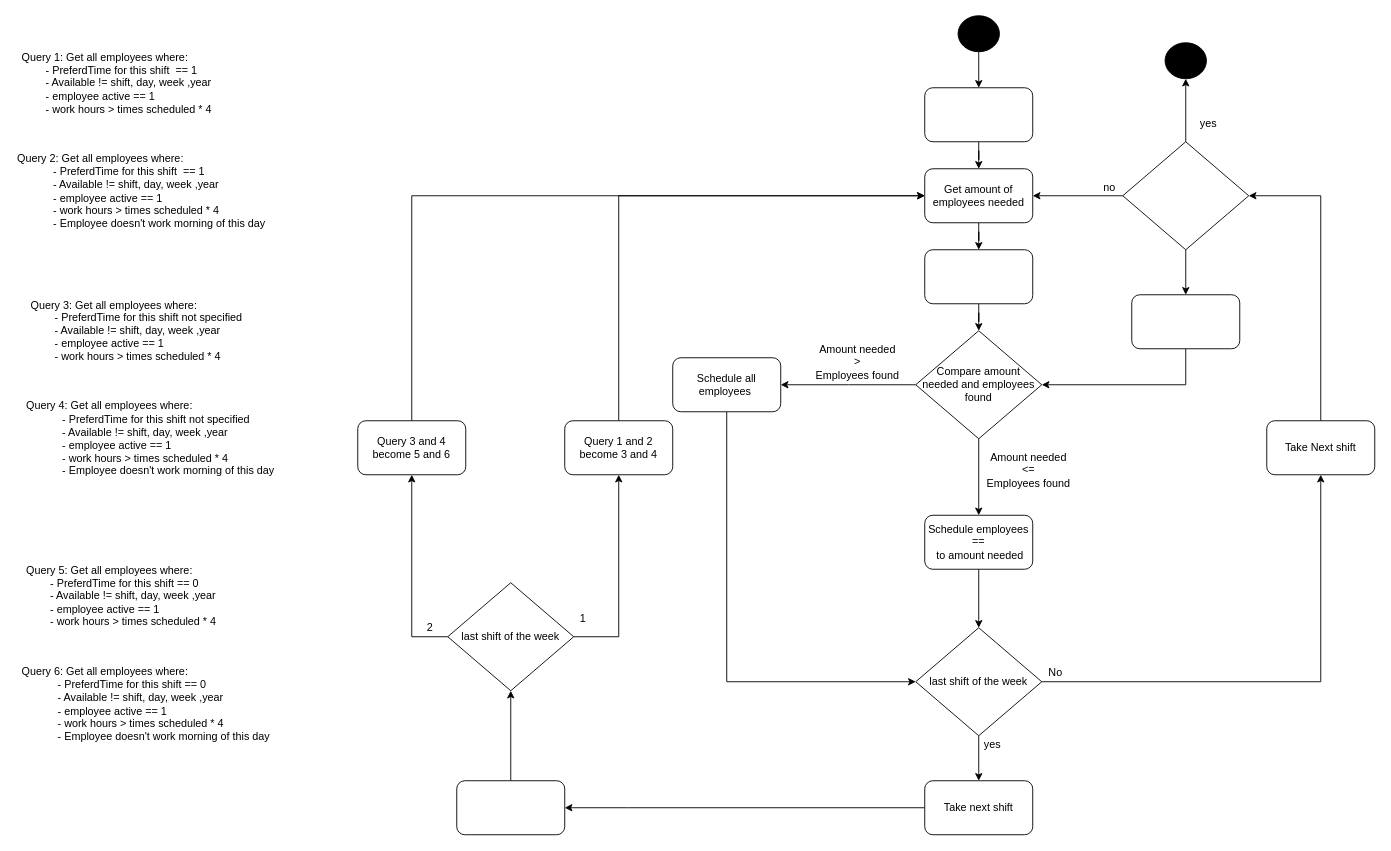
The diagram is 1391 pixels wide and 851 high, and some of its shapes have lost their labels. Each missing label, with the box of its shape:
Get employees that are: View query 1: (924, 249, 1033, 304)
Get employees that are: View query 2: (1131, 294, 1240, 349)
loop ++: (456, 780, 565, 835)
Shift == evening: (1122, 141, 1249, 250)
Take first shift: (924, 87, 1033, 142)
